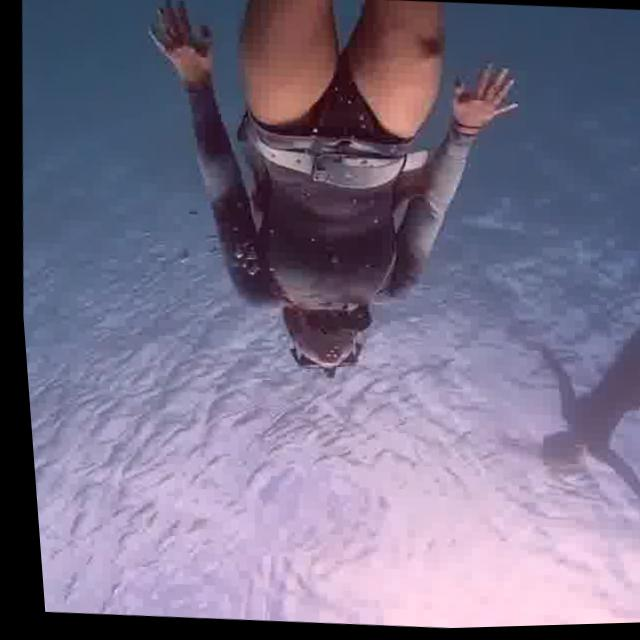human: (114, 0, 561, 418), (497, 215, 640, 541)
